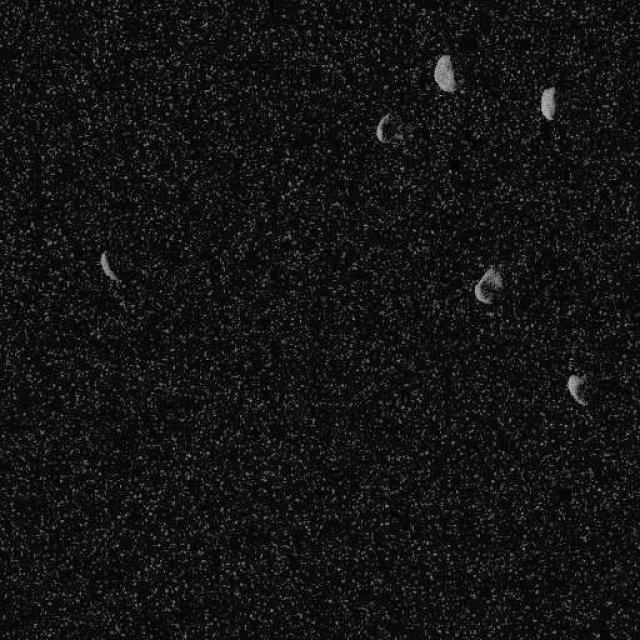D2: (472, 265, 503, 305), (374, 110, 405, 145), (432, 52, 457, 92), (565, 372, 589, 407), (98, 249, 121, 285), (539, 85, 556, 120)
